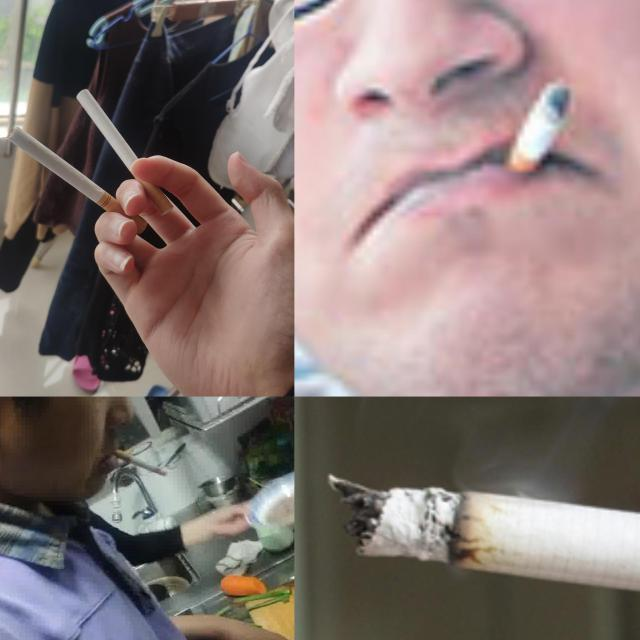smoke: (321, 468, 640, 612), (7, 126, 148, 237), (75, 89, 174, 218), (496, 81, 574, 193), (114, 447, 167, 477)
